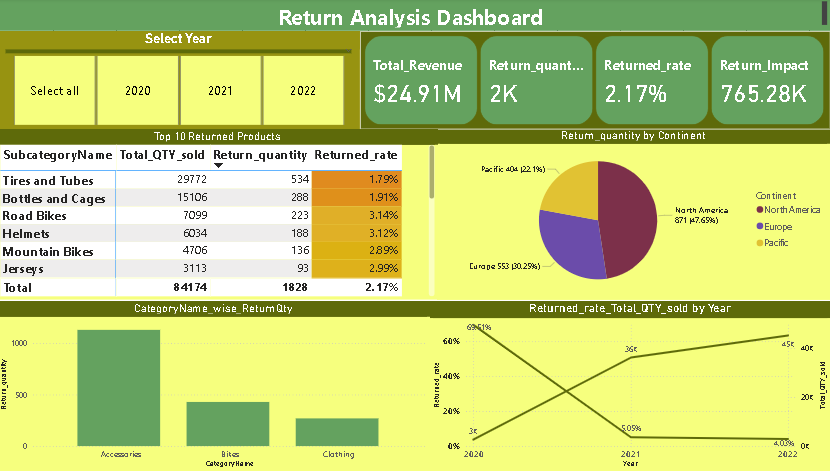

The page's visual inventory and layout, read from the dashboard file:
{"tool":"powerbi","page":{"name":"Dash3","canvas":[1280,720],"ordinal":7},"visuals":[{"type":"textbox","box":[10,0,1270,50],"z":0},{"type":"pieChart","fields":{"Category":["Territory Lookup.Continent"],"Y":["Measure_Table.Return_quantity"]},"box":[681.1,198.1,598.9,262.1],"z":1000},{"type":"cardVisual","fields":{"Data":["Measure_Table.Total_Revenue","Measure_Table.Return_quantity","Measure_Table.Returned_rate","Measure_Table.Return_Impact"]},"box":[563.3,50,716.7,150],"z":2000},{"type":"slicer","title":"Select Year","fields":{"Values":["Calendar Lookup.Date.Variation.Date Hierarchy.Year"]},"box":[10,50,553.3,150],"z":3000},{"type":"pivotTable","title":"Top 10 Returned Products","fields":{"Values":["Measure_Table.Total_QTY_sold","Measure_Table.Return_quantity","Measure_Table.Returned_rate"],"Rows":["Product Subcategories Lookup.SubcategoryName"]},"box":[10,200,671.7,260],"z":4000},{"type":"clusteredColumnChart","title":"CategoryName_wise_ReturnQty","fields":{"Category":["Product Categories Lookup.CategoryName"],"Y":["Measure_Table.Return_quantity"]},"box":[10.7,461.7,659.8,259],"z":5000},{"type":"lineChart","title":"Returned_rate_Total_QTY_sold by Year","fields":{"Category":["Calendar Lookup.Date.Variation.Date Hierarchy.Year"],"Y":["Measure_Table.Returned_rate"],"Y2":["Measure_Table.Total_QTY_sold"]},"box":[670.5,461.7,609.5,259],"z":6000}]}

Visuals, with their boxes in screenshot pixels (x1, y1, x2, y2), scaled from the page's 1280x720 canvas onto the 830x471 screenshot:
textbox: region(6, 0, 829, 33)
pieChart - Territory Lookup.Continent x Measure_Table.Return_quantity: region(442, 130, 829, 301)
cardVisual - Measure_Table.Total_Revenue x Measure_Table.Return_quantity: region(365, 33, 829, 131)
"Select Year" slicer: region(6, 33, 365, 131)
"Top 10 Returned Products" pivotTable: region(6, 131, 442, 301)
"CategoryName_wise_ReturnQty" clusteredColumnChart: region(7, 302, 435, 470)
"Returned_rate_Total_QTY_sold by Year" lineChart: region(435, 302, 829, 470)
